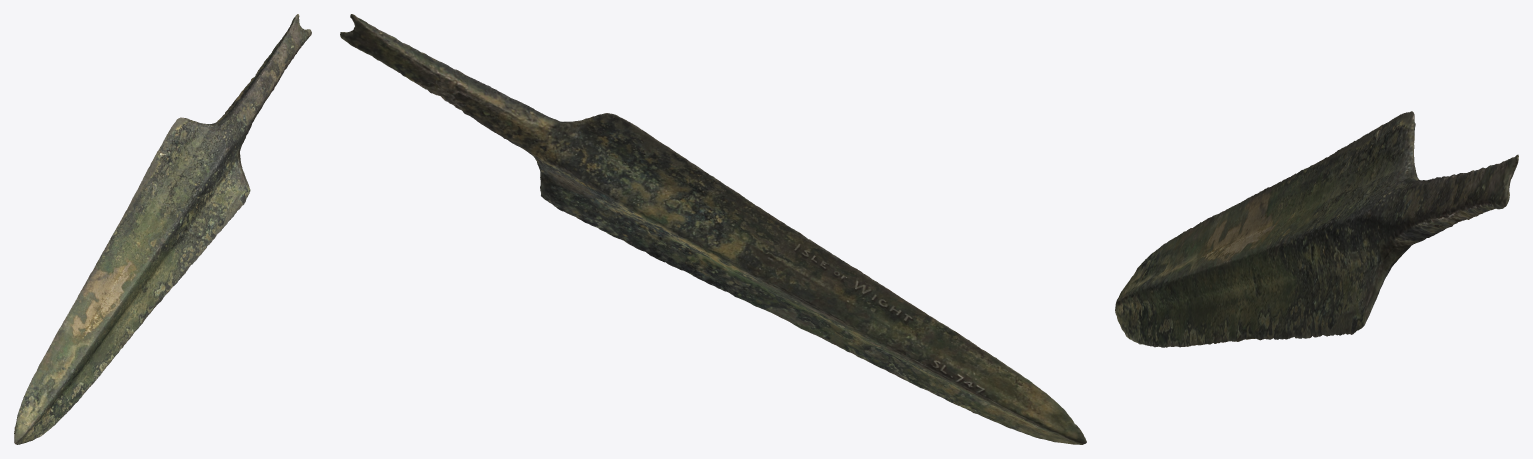
The model's file is bronzesuperhead.glb.
The picture shows the model from 3 angles, left to right: view 1: azimuth 30°, elevation 25°; view 2: azimuth 150°, elevation 25°; view 3: azimuth 270°, elevation 25°; orthographic projection. The views are drawn at different scales.
Visible parts, largest first — view 1: Object_2; view 2: Object_2; view 3: Object_2.
Part boxes in pixels (box(x1,y1,x2,y2)): Object_2: box(14, 14, 311, 444); Object_2: box(340, 14, 1086, 444); Object_2: box(1115, 111, 1518, 347).
Bounding box in the file's own units: 0.1643 × 0.1056 × 0.0728.
1 material, 1 textured.
